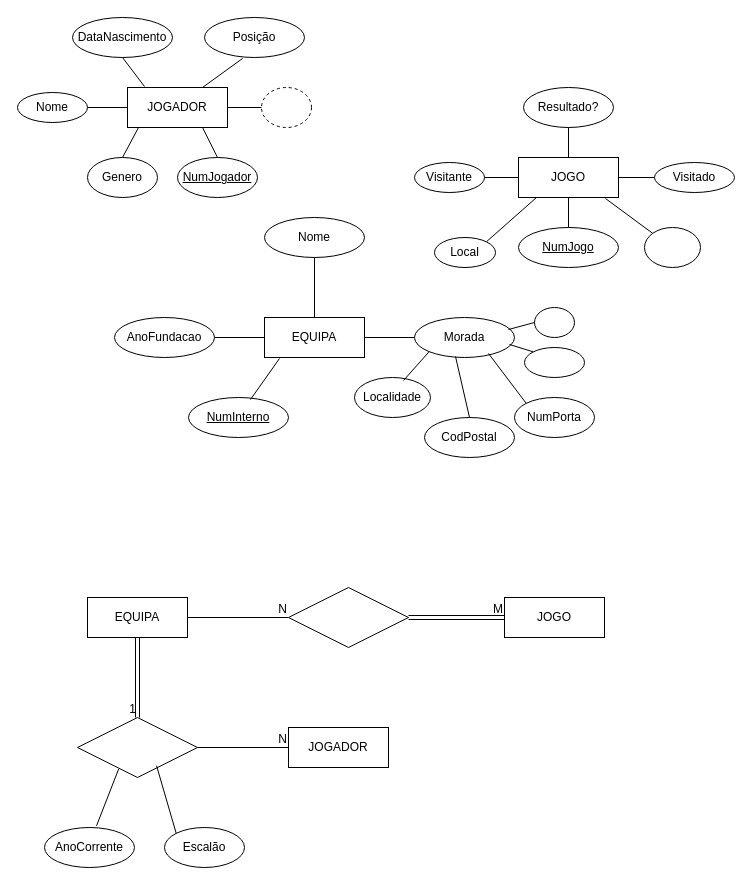
Some shapes in this 752 by 885 pixel diagram are drawn without their labels. Each missing label, with the box of its shape:
Data: (644, 226, 700, 268)
FILIADO_A: (76, 716, 198, 778)
Idade: (260, 86, 312, 128)
JOGOU: (288, 586, 408, 648)
Pais: (534, 306, 574, 338)
Rua: (524, 346, 584, 378)
